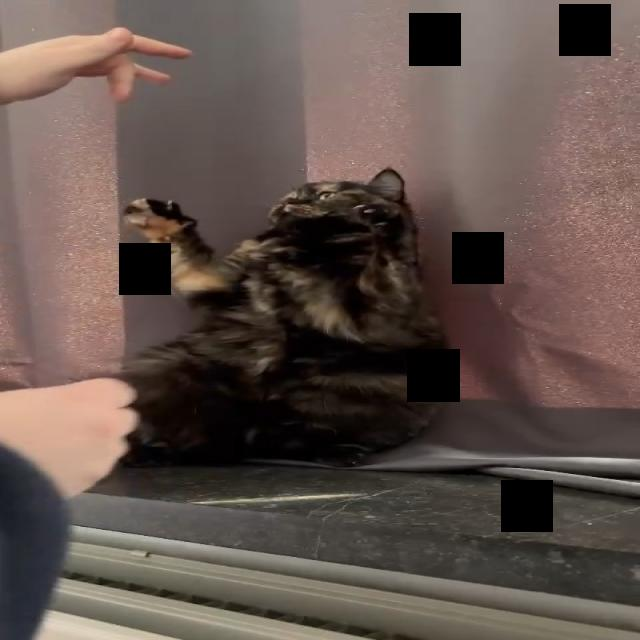authorized: (112, 166, 451, 469)
